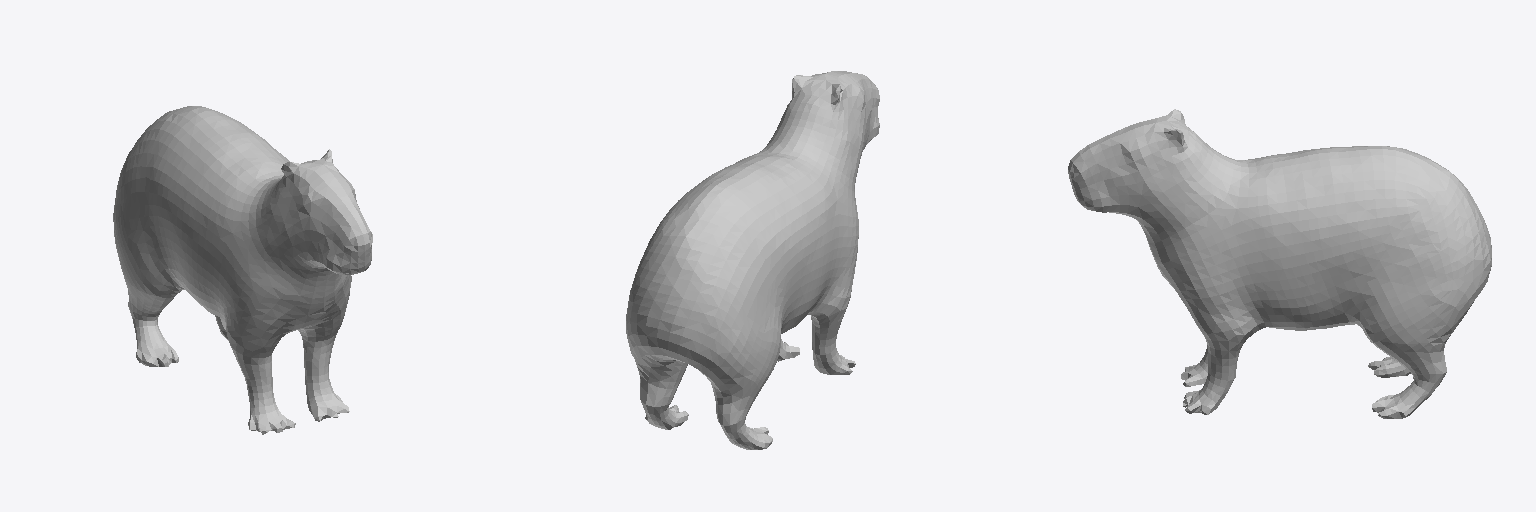
The model's file is capybara.obj.
3 views of the same model, side by side, from view 1: azimuth 30°, elevation 25°; view 2: azimuth 150°, elevation 25°; view 3: azimuth 270°, elevation 25° (orthographic).
Parts seen in each view (by area): view 1: mesh; view 2: mesh; view 3: mesh.
Part boxes in pixels (bbox=[...]): mesh: bbox=[113, 106, 372, 434]; mesh: bbox=[626, 71, 879, 449]; mesh: bbox=[1068, 109, 1491, 418].
Bounding box in the file's own units: 139 × 284 × 397.